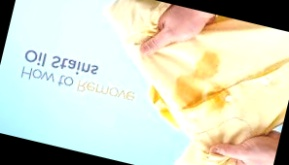oil: (167, 47, 224, 114), (202, 84, 230, 112)
